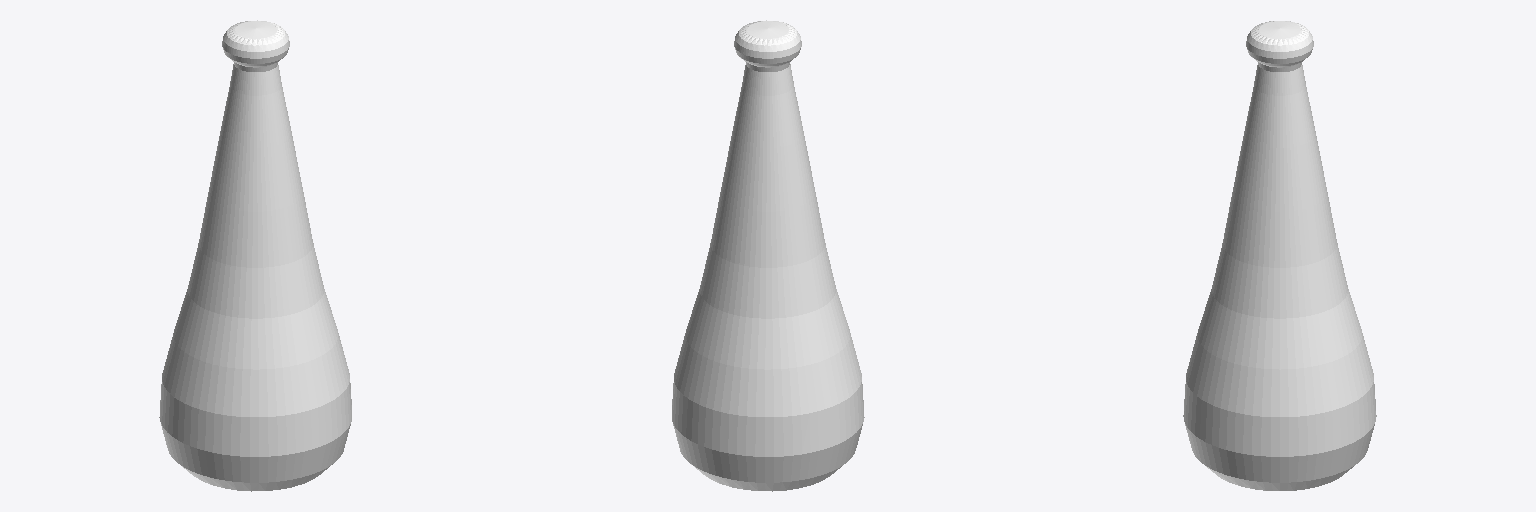
robot.urdf — bottle:
<?xml version="1.0"?>
<robot name="bottle">
	<link name="base">
	<inertial>
        	 <origin xyz="0 0 0" rpy="0 0 0"/>
        	 <mass value="0.05"/>
        	 <inertia ixx="0.000683333"  ixy="0"  ixz="0" iyy="0.000683333" iyz="0" izz="0.000683333" />
       </inertial>
	<visual>
		<origin xyz="0 0 0.127" rpy="0 0 0" />
		<geometry>
       			 <mesh filename="Bottle.dae" scale="1 1 1"/>
      		</geometry>
		<material>
			<color rgba="1 1 1 1" />
		</material>
		</visual>
  	 <collision>
		<origin xyz="0 0 0.127" rpy="0 0 0" />
            <geometry>
       			 <mesh filename="Bottle.dae" scale="1 1 1"/>
            </geometry>
	    <material>
			<color rgba="1 1 1 1" />
	    </material>
        </collision>
	</link>
</robot>

--- Facts derived from the render (not from the file) ---
3 views of the same robot in one strip: view 1: azimuth 30°, elevation 25°; view 2: azimuth 150°, elevation 25°; view 3: azimuth 270°, elevation 25° (orthographic).
Robot: bottle — 1 links, 0 joints (none); root link base; default pose: all joints at 0.
Links seen in each view (by area): view 1: base; view 2: base; view 3: base.
Link boxes in pixels (left/top/right/bottom): base: left=159, top=20, right=351, bottom=491; base: left=672, top=20, right=864, bottom=491; base: left=1183, top=21, right=1376, bottom=490.
Bounding box of the posed robot: 3.87 × 3.87 × 9.78 m (x, y, z).
1 mesh visuals loaded from 1 distinct referenced files (1 Collada DAE).
